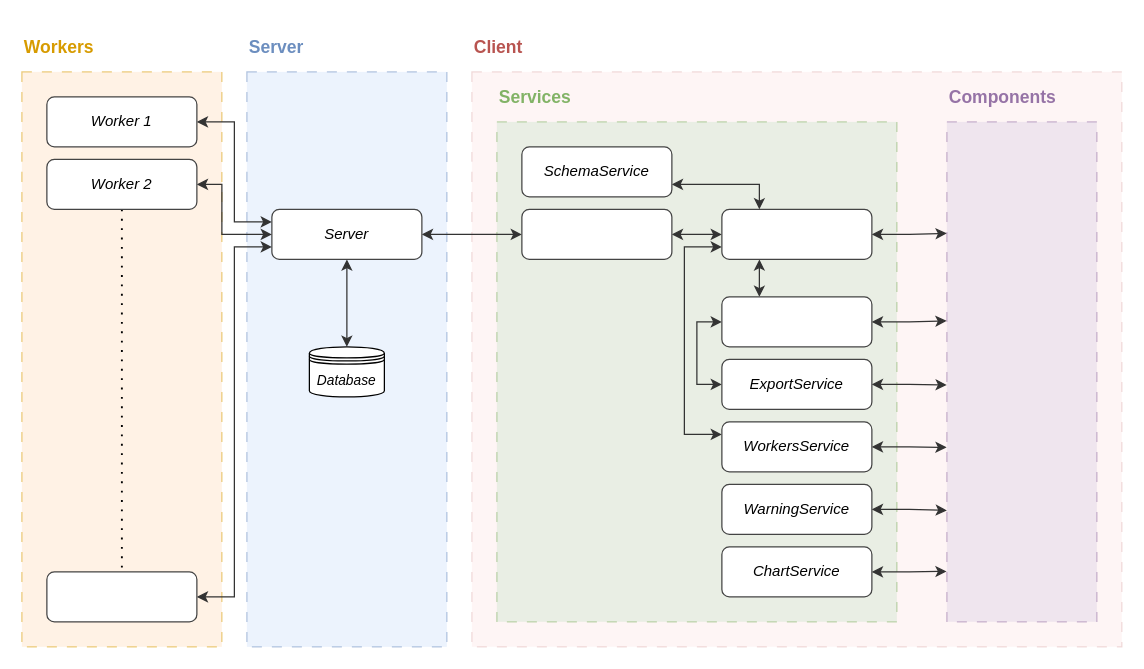
Image size: 1144x669. Some labels were removed from this diagram. The shapes that lost their labels are listed below. From the top down, each one's box as (x1, y1, x2, y2) in pixels, then its label:
(521, 208, 672, 259): SocketService
(721, 208, 872, 259): MetricsService
(721, 296, 872, 347): TrainingService
(46, 571, 197, 622): Worker N
